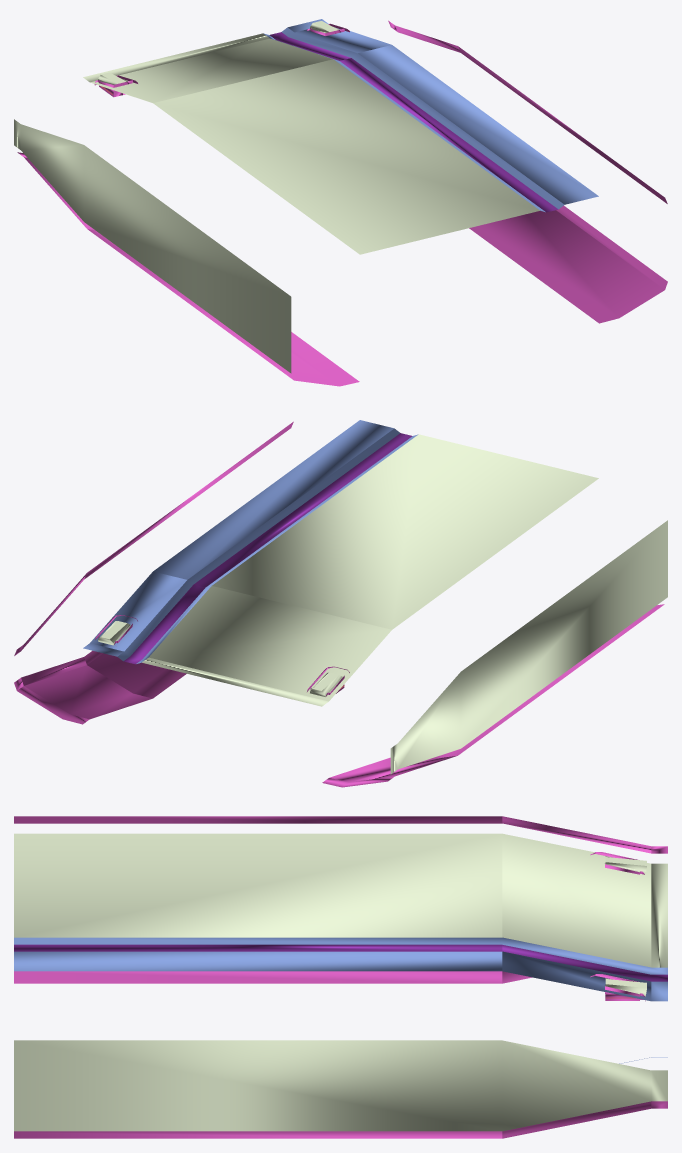
The model's file is docking_lobby_ext_b_lod3.glb.
The picture shows the model from 3 angles, top to bottom: view 1: azimuth 30°, elevation 25°; view 2: azimuth 150°, elevation 25°; view 3: azimuth 270°, elevation 25°; orthographic projection. The views are drawn at different scales.
Bounding box in the file's own units: 61.99 × 20.01 × 79.
